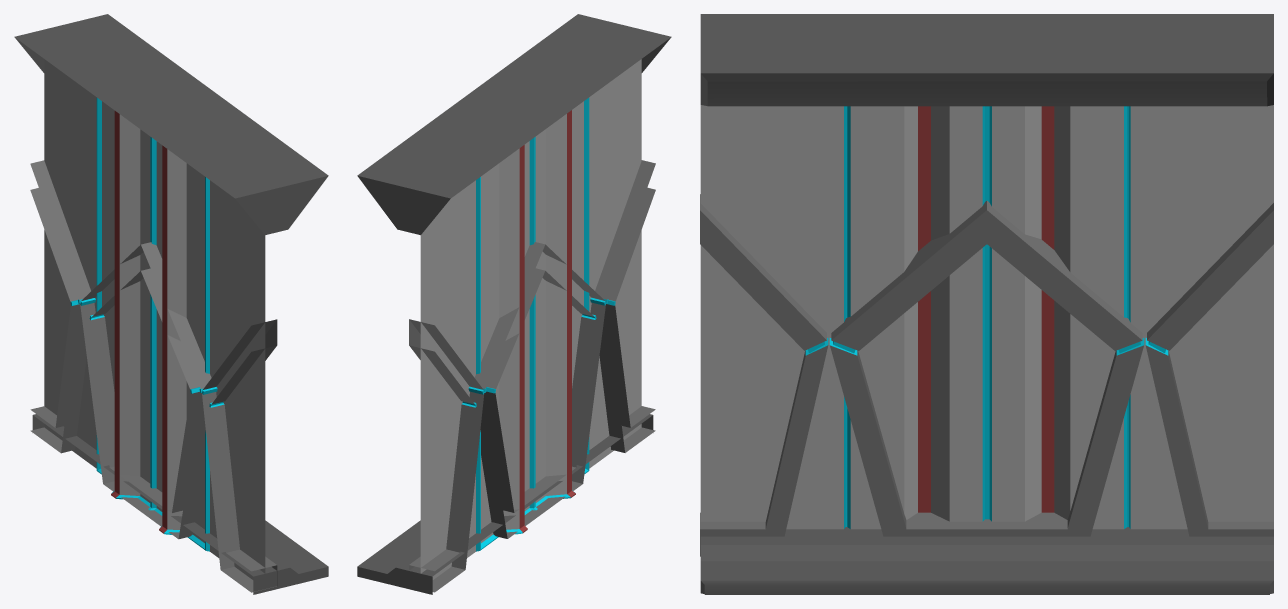
Rendered from SM_Module_06.fbx.
3 views of the same model, side by side, from view 1: azimuth 30°, elevation 25°; view 2: azimuth 150°, elevation 25°; view 3: azimuth 270°, elevation 25° (orthographic). The views are drawn at different scales.
Visible parts, largest first — view 1: SM_Module_06; view 2: SM_Module_06; view 3: SM_Module_06.
Part boxes in pixels (<box>): SM_Module_06: <box>14,14,328,594</box>; SM_Module_06: <box>357,14,671,594</box>; SM_Module_06: <box>700,14,1273,594</box>.
Size of the model in its own units: 149 by 601 by 600.
